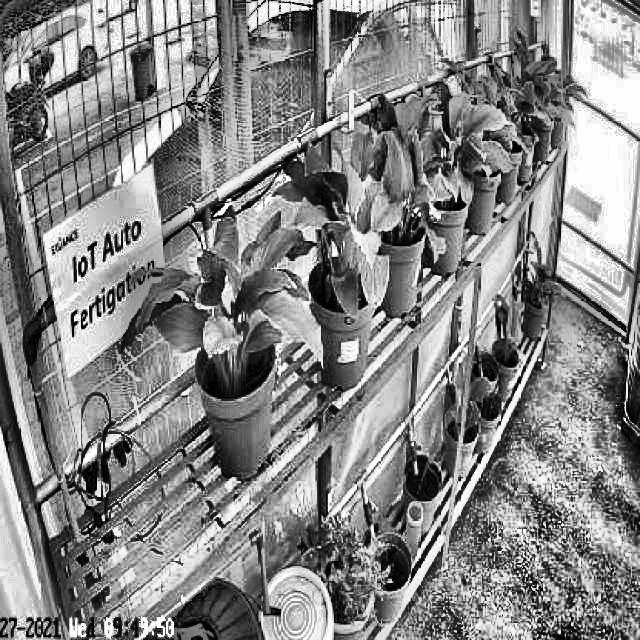plants: (124, 201, 326, 382), (278, 153, 390, 310), (348, 104, 434, 253), (410, 78, 507, 204)
